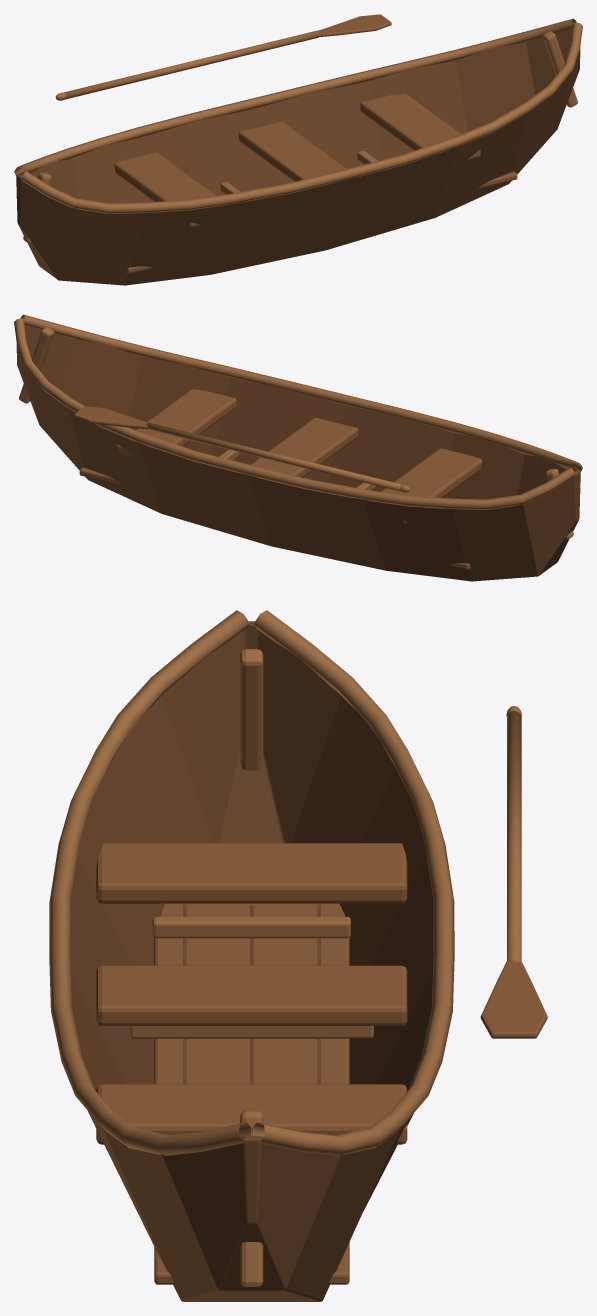
The model's file is vehicle_river_boat_01.glb.
3 renders of one model, top to bottom at view 1: azimuth 30°, elevation 25°; view 2: azimuth 150°, elevation 25°; view 3: azimuth 270°, elevation 25°, orthographic. The views are drawn at different scales.
Visible parts, largest first — view 1: river_boat_hull, river_boat_gunwale_port, river_boat_gunwale_starboard, river_boat_bench_02, river_boat_bench_03, river_boat_bench_01, boat_oar_shaft, boat_oar_blade, river_boat_bow_post, river_boat_floor; view 2: river_boat_hull, river_boat_gunwale_starboard, river_boat_gunwale_port, river_boat_bench_02, river_boat_bench_03, river_boat_bench_01, boat_oar_shaft, boat_oar_blade, river_boat_bow_post, river_boat_floor; view 3: river_boat_hull, river_boat_bench_02, river_boat_bench_01, river_boat_floor, river_boat_gunwale_starboard, river_boat_gunwale_port, river_boat_bench_03, river_boat_rib_02, boat_oar_shaft, boat_oar_blade, river_boat_rib_04, river_boat_stern_post (+1 smaller).
Boxes of the visible parts, x1,y1,x2,y2 form: river_boat_hull: (16,29,580,285); river_boat_gunwale_port: (21,22,582,214); river_boat_gunwale_starboard: (14,18,576,175); river_boat_bench_02: (238,122,346,181); river_boat_bench_03: (360,93,480,160); river_boat_bench_01: (114,152,215,227); boat_oar_shaft: (64,30,319,99); boat_oar_blade: (317,14,391,37); river_boat_bow_post: (542,31,577,107); river_boat_floor: (126,164,517,273); river_boat_hull: (16,326,580,581); river_boat_gunwale_starboard: (14,318,575,509); river_boat_gunwale_port: (20,314,582,471); river_boat_bench_02: (250,418,358,477); river_boat_bench_03: (116,389,236,457); river_boat_bench_01: (381,448,482,523); boat_oar_shaft: (146,422,401,491); boat_oar_blade: (74,406,148,429); river_boat_bow_post: (19,327,54,403); river_boat_floor: (79,460,470,569); river_boat_hull: (70,621,433,1301); river_boat_bench_02: (96,965,407,1025); river_boat_bench_01: (96,843,407,903); river_boat_floor: (154,903,349,1284); river_boat_gunwale_starboard: (251,610,454,1155); river_boat_gunwale_port: (49,610,252,1155); river_boat_bench_03: (96,1084,407,1144); river_boat_rib_02: (152,917,350,938); boat_oar_shaft: (507,711,521,961); boat_oar_blade: (480,961,547,1038); river_boat_rib_04: (130,1026,373,1038); river_boat_stern_post: (240,649,263,770).
Bounding box in the file's own units: 4.25 × 1.03 × 1.63.
